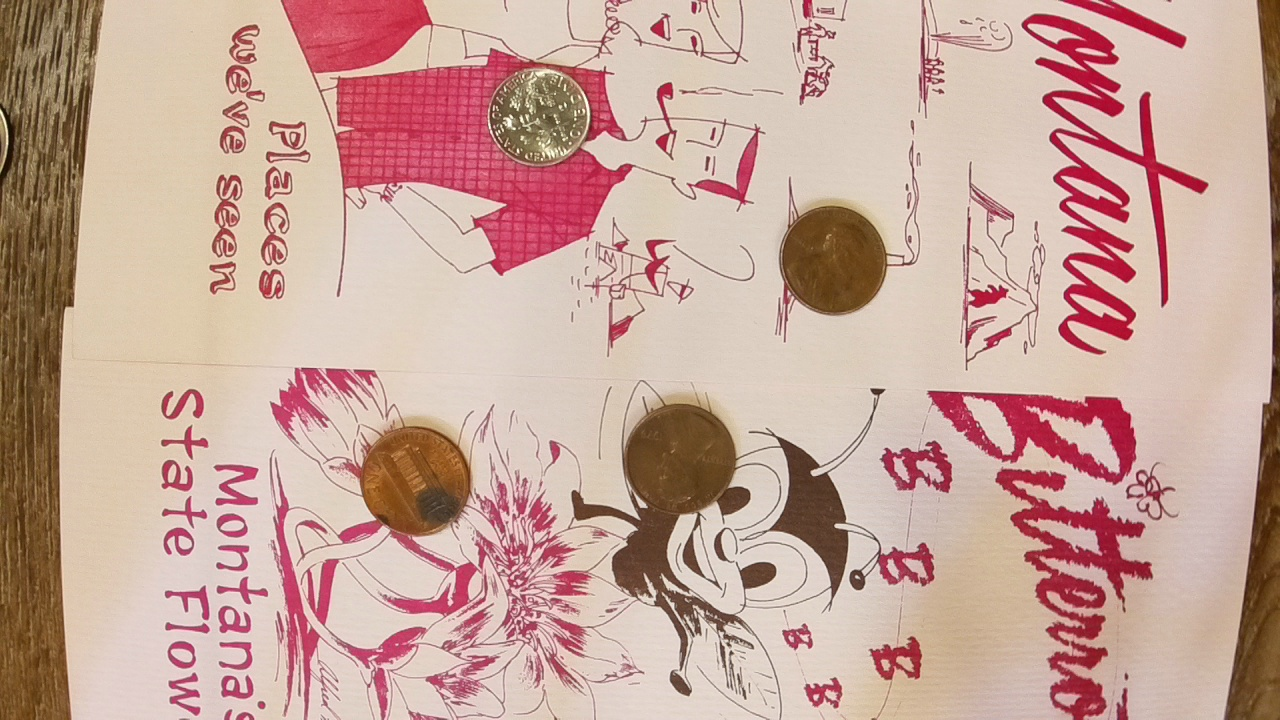dime: (485, 63, 593, 165)
penny: (620, 403, 736, 515), (779, 203, 889, 315), (360, 423, 470, 535)
